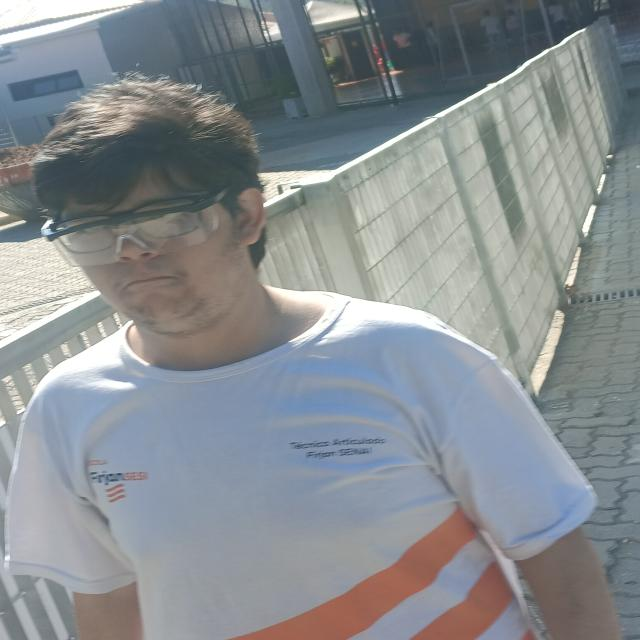oculos-epi: (41, 185, 234, 268)
